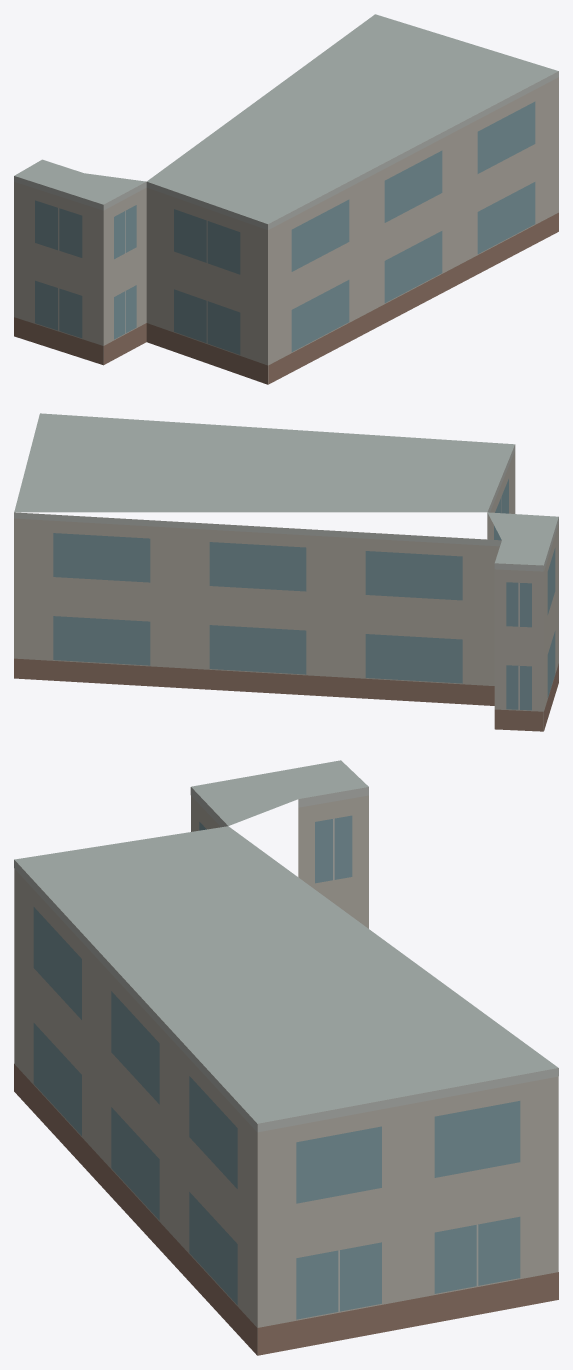
The model's file is survey-upis-32498083.glb.
3 renders of one model, top to bottom at view 1: azimuth 30°, elevation 25°; view 2: azimuth 150°, elevation 25°; view 3: azimuth 270°, elevation 25°, orthographic. The views are drawn at different scales.
Parts seen in each view (by area): view 1: survey-upis-32498083.tmp; view 2: survey-upis-32498083.tmp; view 3: survey-upis-32498083.tmp.
Part boxes in pixels (bbox=[...]): survey-upis-32498083.tmp: bbox=[14, 14, 558, 384]; survey-upis-32498083.tmp: bbox=[14, 413, 558, 731]; survey-upis-32498083.tmp: bbox=[14, 760, 558, 1355].
Size of the model in its own units: 22.21 by 6.6 by 14.06.
